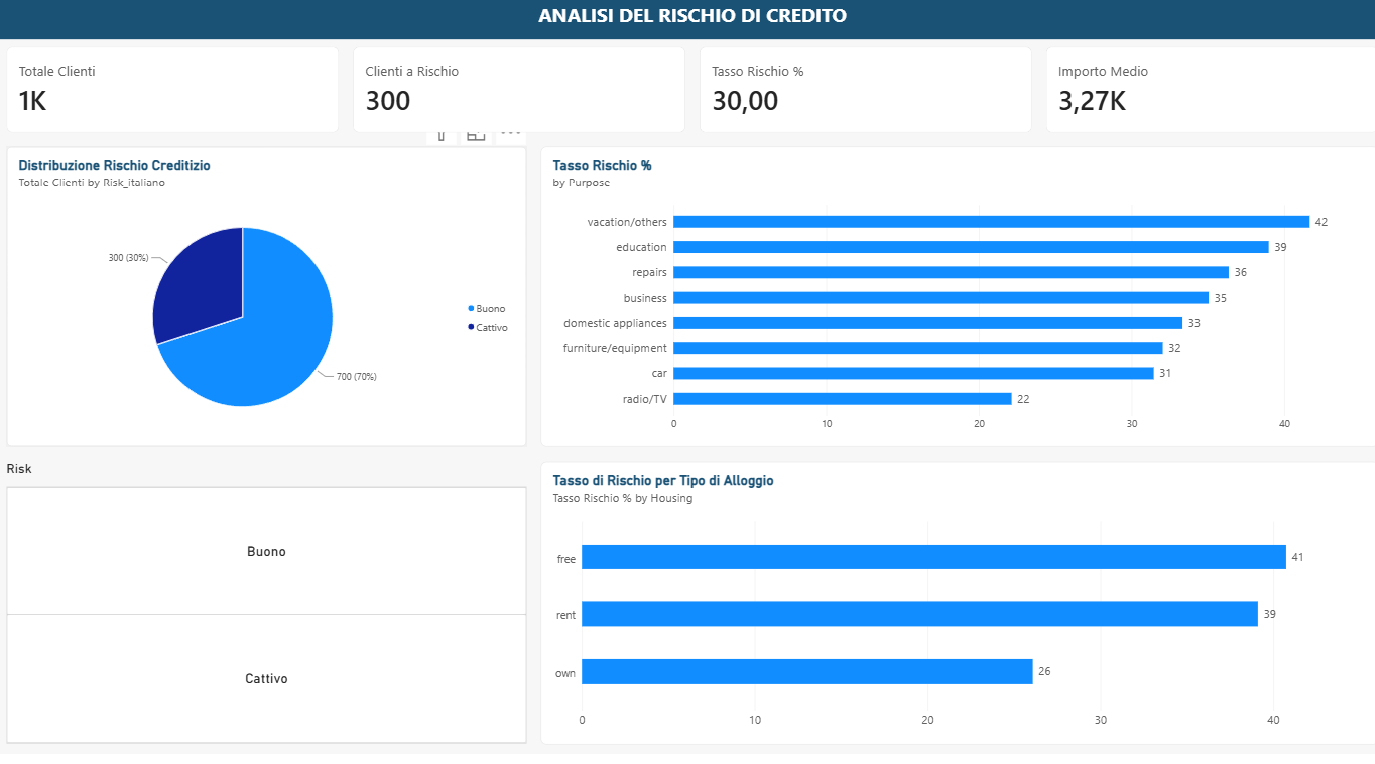

The page's visual inventory and layout, read from the dashboard file:
{"tool":"powerbi","page":{"name":"Overview","canvas":[1920,1080],"ordinal":0},"visuals":[{"type":"pieChart","title":"Distribuzione Rischio Creditizio","fields":{"Y":["credit_powerbi.Totale Clienti"],"Category":["credit_powerbi.Risk_italiano"]},"box":[10,220,720,420],"z":0},{"type":"barChart","fields":{"Category":["credit_powerbi.Purpose"],"Y":["credit_powerbi.Tasso Rischio %"]},"box":[750,220,1160,420],"z":1000},{"type":"shape","title":"ANALISI DEL RISCHIO DI CREDITO","box":[0,0,1920.4,70],"z":2000},{"type":"advancedSlicerVisual","title":"Risk","fields":{"Values":["credit_powerbi.Risk_italiano"]},"box":[10.5,659.3,720.4,397.7],"z":3000},{"type":"barChart","title":"Tasso di Rischio per Tipo di Alloggio","fields":{"Category":["credit_powerbi.Housing"],"Y":["credit_powerbi.Tasso Rischio %"]},"box":[750,661,1159.9,395.9],"z":4000},{"type":"cardVisual","fields":{"Data":["credit_powerbi.Totale Clienti"]},"box":[10,80,460,120],"z":5000},{"type":"cardVisual","fields":{"Data":["credit_powerbi.Tasso Rischio %"]},"box":[970,80,460,120],"z":6000},{"type":"cardVisual","fields":{"Data":["credit_powerbi.Importo Medio"]},"box":[1450,80,460,120],"z":7000},{"type":"cardVisual","fields":{"Data":["credit_powerbi.Clienti a Rischio"]},"box":[490,80,460,120],"z":8000}]}

Visuals, with their boxes in screenshot pixels (x1, y1, x2, y2), scaled from the page's 1920x1080 canvas onto the 1375x764 screenshot:
"Distribuzione Rischio Creditizio" pieChart: Rect(7, 156, 523, 453)
barChart - credit_powerbi.Purpose x credit_powerbi.Tasso Rischio %: Rect(537, 156, 1368, 453)
"ANALISI DEL RISCHIO DI CREDITO" shape: Rect(0, 0, 1374, 50)
"Risk" advancedSlicerVisual: Rect(8, 466, 523, 748)
"Tasso di Rischio per Tipo di Alloggio" barChart: Rect(537, 468, 1368, 748)
cardVisual - credit_powerbi.Totale Clienti: Rect(7, 57, 337, 141)
cardVisual - credit_powerbi.Tasso Rischio %: Rect(695, 57, 1024, 141)
cardVisual - credit_powerbi.Importo Medio: Rect(1038, 57, 1368, 141)
cardVisual - credit_powerbi.Clienti a Rischio: Rect(351, 57, 680, 141)
